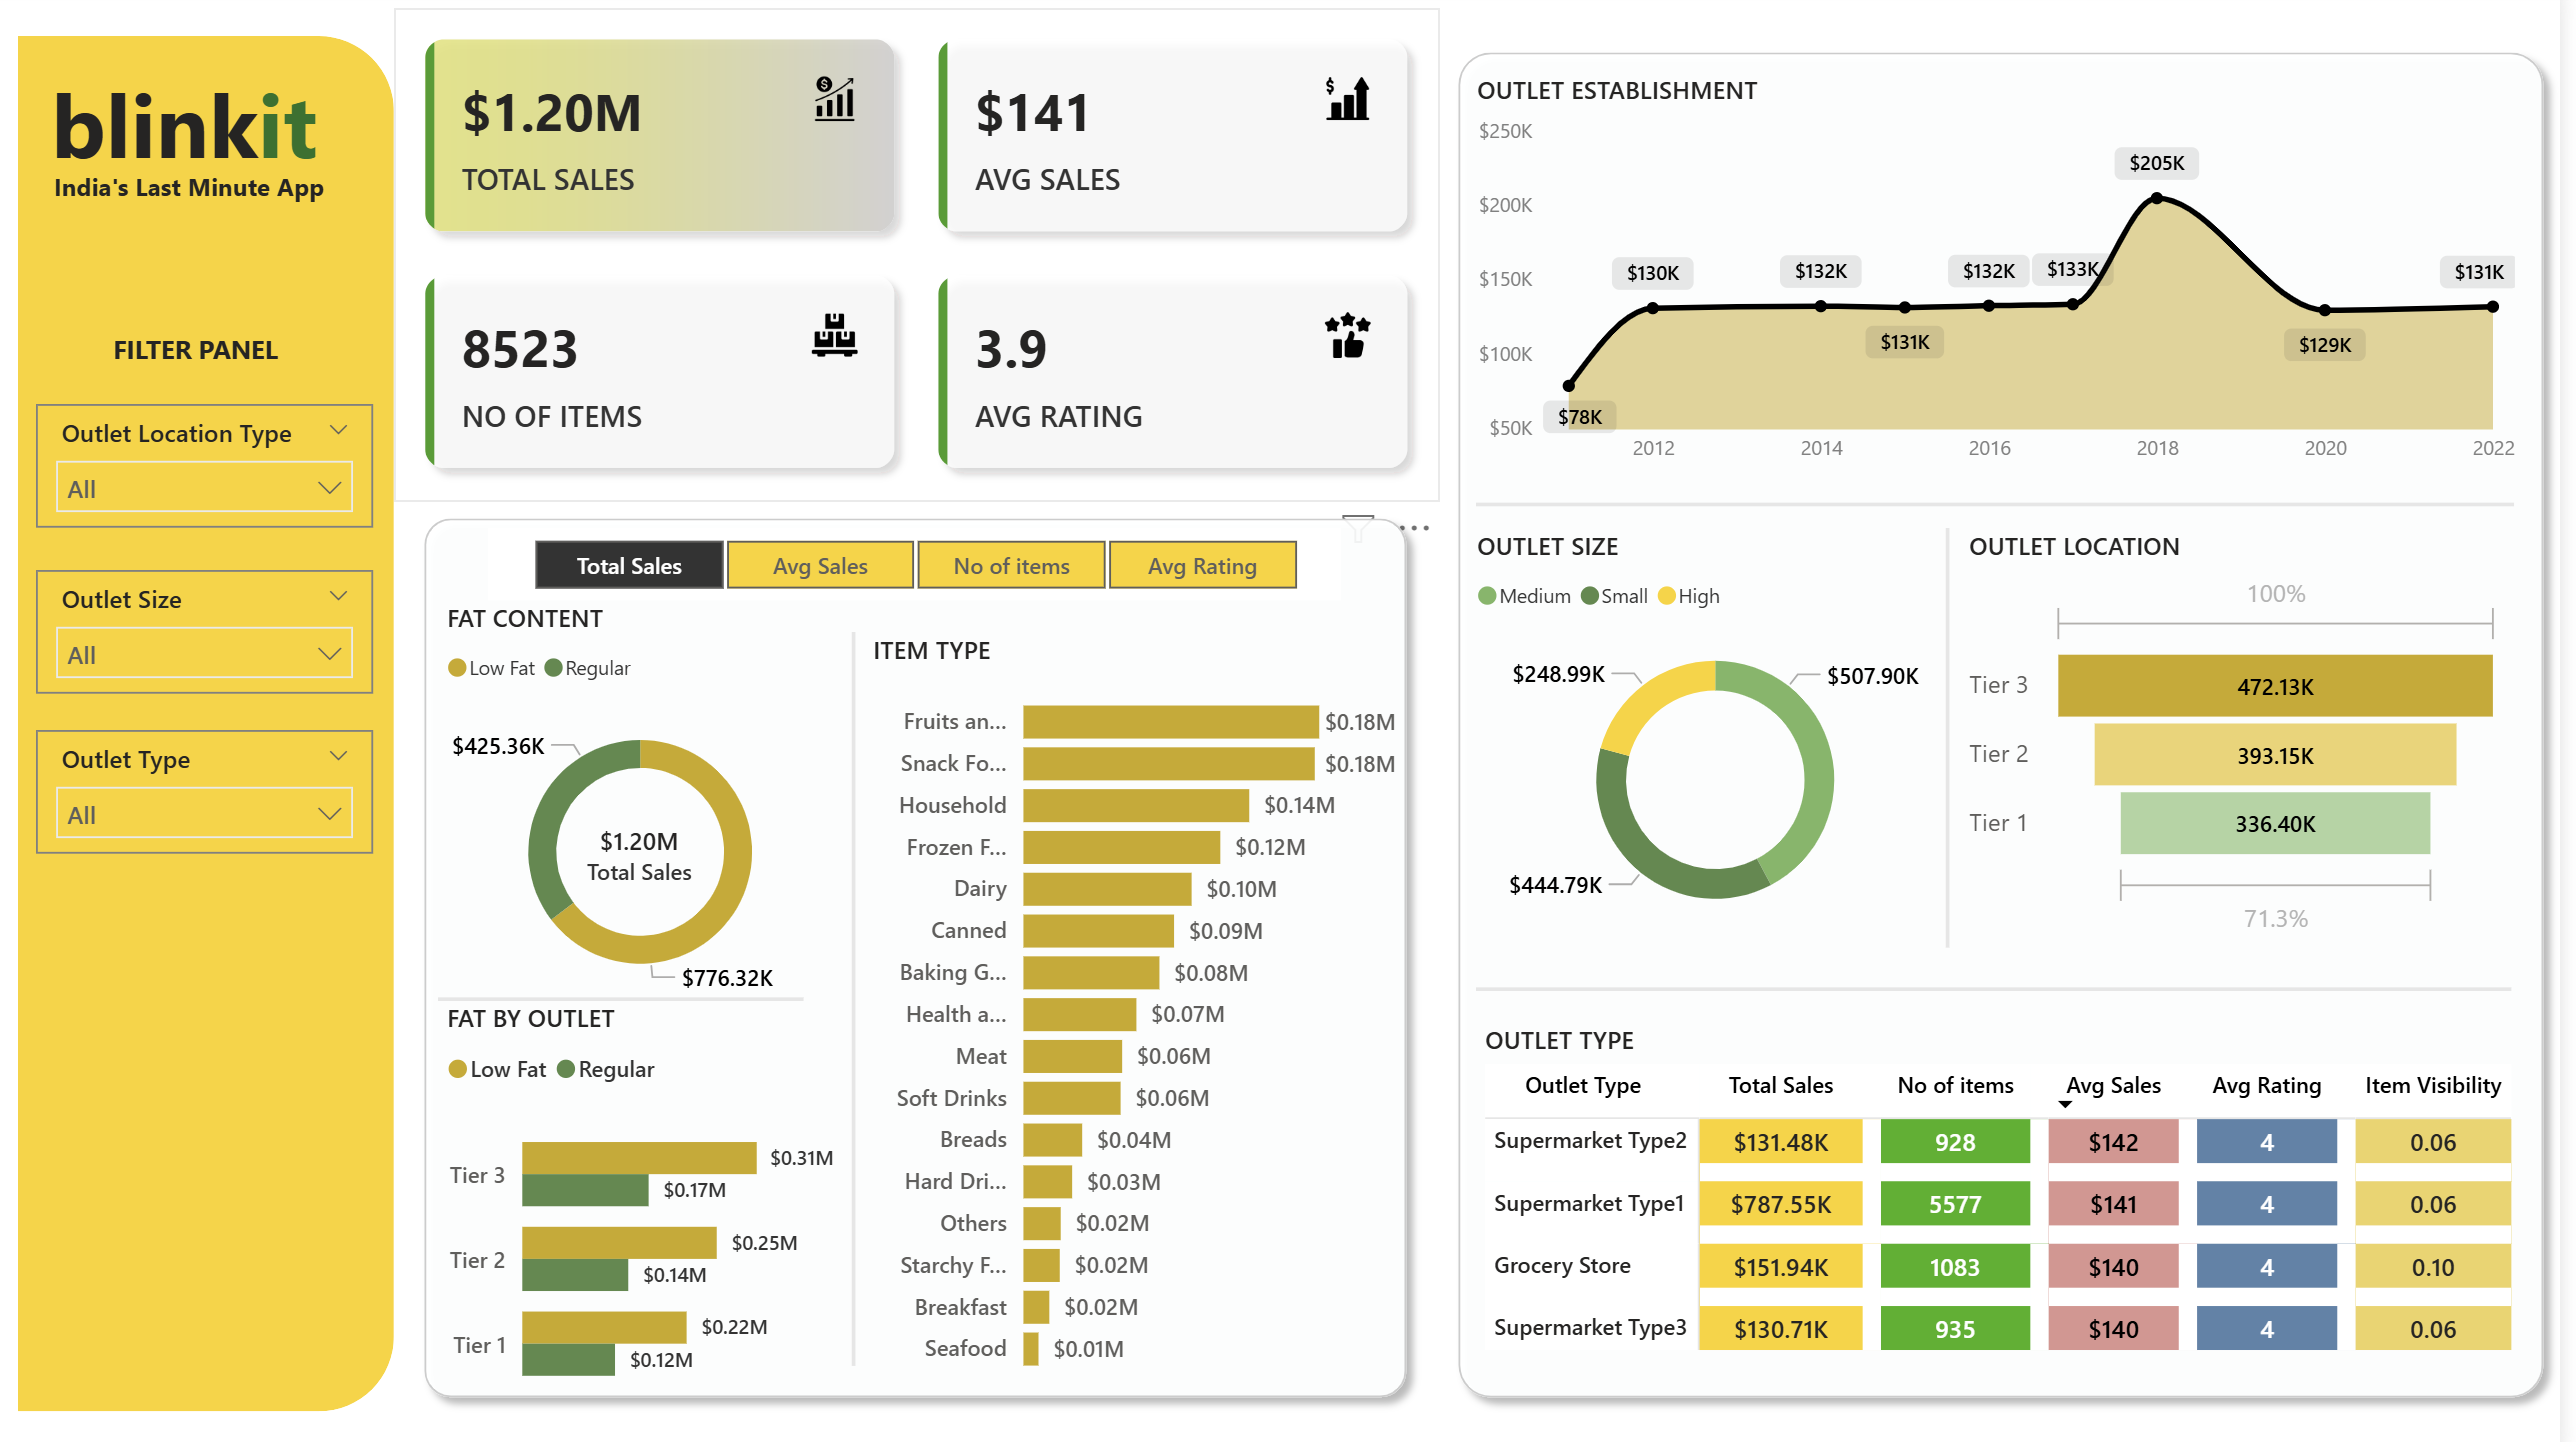

The dashboard page shown, as its layout file describes it:
{"tool":"powerbi","page":{"name":"Page 1","canvas":[1400,800],"ordinal":0},"visuals":[{"type":"shape","box":[12.7,25.3,205.2,750.6],"z":0},{"type":"textbox","box":[26.7,35.1,191.2,74.5],"z":1000},{"type":"textbox","box":[22.5,92.8,167.3,33.7],"z":2000},{"type":"cardVisual","fields":{"Data":["BlinkIT Grocery Data.Total Sales","BlinkIT Grocery Data.Avg Sales","BlinkIT Grocery Data.No of items","BlinkIT Grocery Data.Avg Rating"]},"box":[217.9,9.8,570.7,269.9],"z":3000},{"type":"shape","box":[226.3,279.7,553.8,497.6],"z":4000},{"type":"donutChart","title":"FAT CONTENT","fields":{"Y":["BlinkIT Grocery Data.Total Sales"],"Category":["BlinkIT Grocery Data.Item Fat Content"]},"box":[241.8,333.1,220.7,230.5],"z":5000},{"type":"slicer","fields":{"Values":["Metrics.Metrics"]},"box":[269.9,293.8,465.3,39.4],"z":6000},{"type":"cardVisual","fields":{"Data":["BlinkIT Grocery Data.Total Sales"]},"box":[295.2,437.1,115.3,63.3],"z":7000},{"type":"clusteredBarChart","title":"FAT BY OUTLET","fields":{"Y":["BlinkIT Grocery Data.Total Sales"],"Category":["BlinkIT Grocery Data.Outlet Location Type"],"Series":["BlinkIT Grocery Data.Item Fat Content"]},"box":[241.8,551,220.7,230.5],"z":8000},{"type":"shape","box":[241.8,538.4,199.6,25.3],"z":9000},{"type":"shape","box":[462.4,350,12.7,400.6],"z":10000},{"type":"barChart","title":"ITEM TYPE","fields":{"Y":["BlinkIT Grocery Data.Total Sales"],"Category":["BlinkIT Grocery Data.Item Type"]},"box":[475.1,350,295.2,414.7],"z":11000},{"type":"shape","box":[790,25.3,610,752],"z":12000},{"type":"lineChart","title":"OUTLET ESTABLISHMENT","fields":{"Y":["BlinkIT Grocery Data.Total Sales"],"Category":["BlinkIT Grocery Data.Outlet Establishment Year"]},"box":[804,45,576.3,222.1],"z":13000},{"type":"shape","box":[808.2,267.1,566.5,26.7],"z":14000},{"type":"donutChart","title":"OUTLET SIZE","fields":{"Y":["BlinkIT Grocery Data.Total Sales"],"Category":["BlinkIT Grocery Data.Outlet Size"]},"box":[804,293.8,269.9,230.5],"z":15000},{"type":"shape","box":[1059.8,293.8,12.7,229.1],"z":16000},{"type":"funnel","title":"OUTLET LOCATION","fields":{"Category":["BlinkIT Grocery Data.Outlet Location Type"],"Y":["Sum(BlinkIT Grocery Data.Sales)"]},"box":[1072.5,293.8,300.8,229.1],"z":17000},{"type":"shape","box":[808.2,532.7,565.1,25.3],"z":18000},{"type":"pivotTable","title":"OUTLET TYPE","fields":{"Rows":["BlinkIT Grocery Data.Outlet Type"],"Values":["BlinkIT Grocery Data.Total Sales","BlinkIT Grocery Data.No of items","BlinkIT Grocery Data.Avg Sales","BlinkIT Grocery Data.Avg Rating","Avg(BlinkIT Grocery Data.Item Visibility)"]},"box":[808.2,563.7,572.1,237.6],"z":19000},{"type":"slicer","fields":{"Values":["BlinkIT Grocery Data.Outlet Location Type"]},"box":[22.5,226.3,184.1,67.5],"z":20000},{"type":"slicer","fields":{"Values":["BlinkIT Grocery Data.Outlet Size"]},"box":[22.5,316.3,184.1,67.5],"z":21000},{"type":"slicer","fields":{"Values":["BlinkIT Grocery Data.Outlet Type"]},"box":[22.5,403.4,184.1,67.5],"z":22000},{"type":"textbox","box":[60.4,181.3,108.2,35.1],"z":23000}]}

Visuals, with their boxes in screenshot pixels (x1, y1, x2, y2), scaled from the page's 1400x800 canvas onto the 2576x1442 screenshot:
shape: [23,46,401,1399]
textbox: [49,63,401,198]
textbox: [41,167,349,228]
cardVisual - BlinkIT Grocery Data.Total Sales x BlinkIT Grocery Data.Avg Sales: [401,18,1451,504]
shape: [416,504,1435,1401]
"FAT CONTENT" donutChart: [445,600,851,1016]
slicer - Metrics.Metrics: [497,530,1353,601]
cardVisual - BlinkIT Grocery Data.Total Sales: [543,788,755,902]
"FAT BY OUTLET" clusteredBarChart: [445,993,851,1409]
shape: [445,970,812,1016]
shape: [851,631,874,1353]
"ITEM TYPE" barChart: [874,631,1417,1378]
shape: [1454,46,2575,1401]
"OUTLET ESTABLISHMENT" lineChart: [1479,81,2540,481]
shape: [1487,481,2529,530]
"OUTLET SIZE" donutChart: [1479,530,1976,945]
shape: [1950,530,1973,943]
"OUTLET LOCATION" funnel: [1973,530,2527,943]
shape: [1487,960,2527,1006]
"OUTLET TYPE" pivotTable: [1487,1016,2540,1441]
slicer - BlinkIT Grocery Data.Outlet Location Type: [41,408,380,530]
slicer - BlinkIT Grocery Data.Outlet Size: [41,570,380,692]
slicer - BlinkIT Grocery Data.Outlet Type: [41,727,380,849]
textbox: [111,327,310,390]
